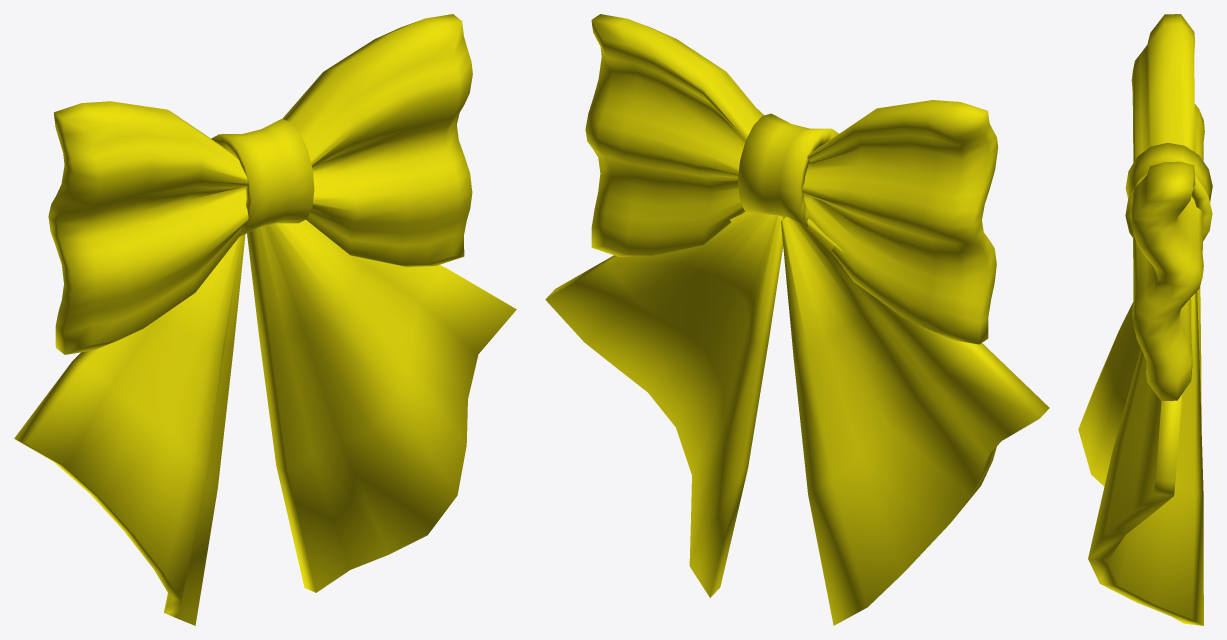
File: Ribon.fbx
3 views of the same model, side by side, from view 1: azimuth 30°, elevation 25°; view 2: azimuth 150°, elevation 25°; view 3: azimuth 270°, elevation 25° (orthographic). The views are drawn at different scales.
Visible parts, largest first — view 1: Ribon; view 2: Ribon; view 3: Ribon.
Boxes of the visible parts, <box> form: Ribon: <box>14,14,516,625</box>; Ribon: <box>545,14,1049,625</box>; Ribon: <box>1078,14,1212,625</box>.
Size of the model in its own units: 26.95 by 28.5 by 6.95.
